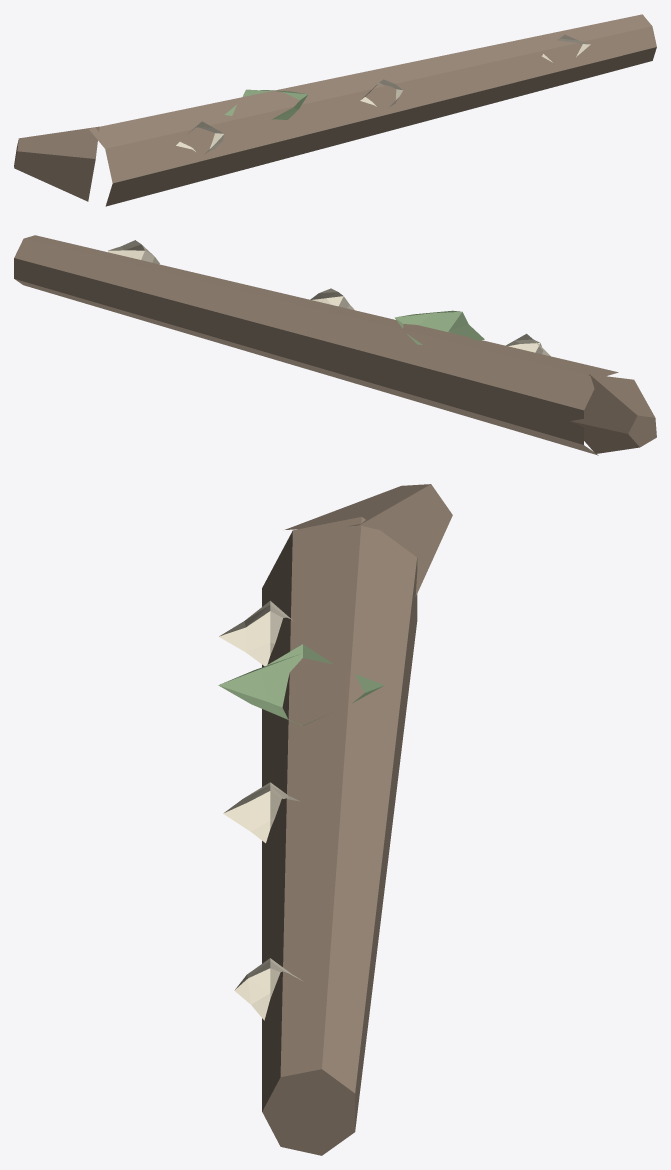
Rendered from log_v40.glb.
3 renders of one model, top to bottom at view 1: azimuth 30°, elevation 25°; view 2: azimuth 150°, elevation 25°; view 3: azimuth 270°, elevation 25°, orthographic. The views are drawn at different scales.
Parts seen in each view (by area): view 1: lod0; view 2: lod0; view 3: lod0.
Part boxes in pixels (box(x1,y1,x2,y2)): lod0: box(14, 14, 656, 206); lod0: box(14, 235, 656, 455); lod0: box(218, 484, 452, 1155).
Size of what is drawn, in the model's own units: 3.44 by 0.444 by 0.5759.
